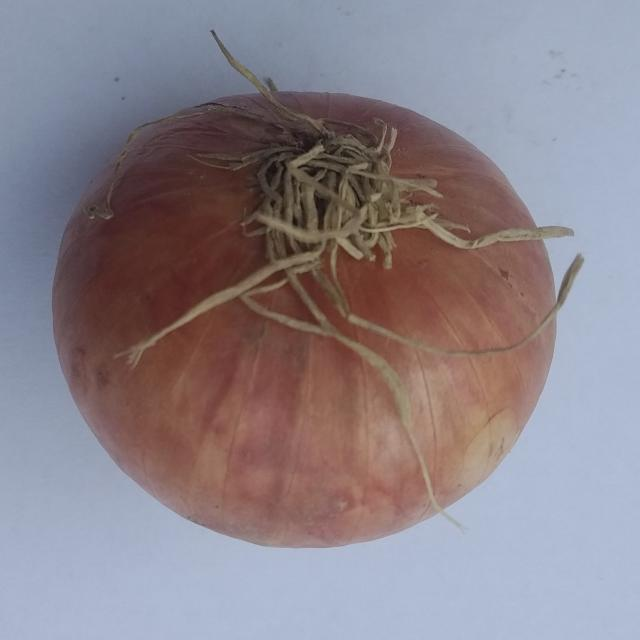onion: (52, 30, 584, 553)
